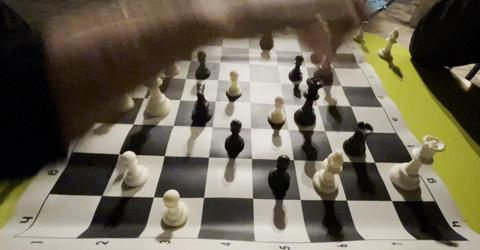xcorner: (323, 47, 333, 57), (270, 44, 280, 54), (243, 42, 253, 52), (216, 41, 226, 51), (189, 39, 199, 49), (301, 60, 311, 70), (272, 58, 282, 68), (243, 57, 253, 67), (214, 55, 224, 65), (306, 77, 316, 87), (275, 75, 285, 85), (243, 74, 253, 84), (179, 70, 189, 80), (147, 69, 157, 79), (312, 97, 322, 107), (137, 89, 147, 99), (356, 123, 366, 133), (319, 122, 329, 132), (282, 120, 292, 130), (244, 118, 254, 128), (166, 115, 176, 125), (126, 113, 136, 123), (370, 153, 380, 163), (328, 152, 338, 162), (157, 145, 167, 155), (340, 190, 350, 200), (244, 187, 254, 197), (145, 184, 155, 194), (94, 182, 104, 192), (161, 38, 171, 47), (329, 62, 339, 71), (184, 54, 194, 63), (155, 52, 164, 62), (337, 79, 347, 88), (212, 72, 221, 82), (346, 99, 355, 109), (278, 96, 288, 105), (244, 94, 253, 104), (209, 92, 218, 102), (173, 91, 183, 100), (205, 117, 215, 126), (287, 150, 296, 160), (244, 149, 254, 158), (201, 147, 210, 157), (112, 144, 122, 153), (386, 192, 396, 201), (292, 189, 302, 198), (195, 186, 205, 195), (297, 46, 306, 55)
